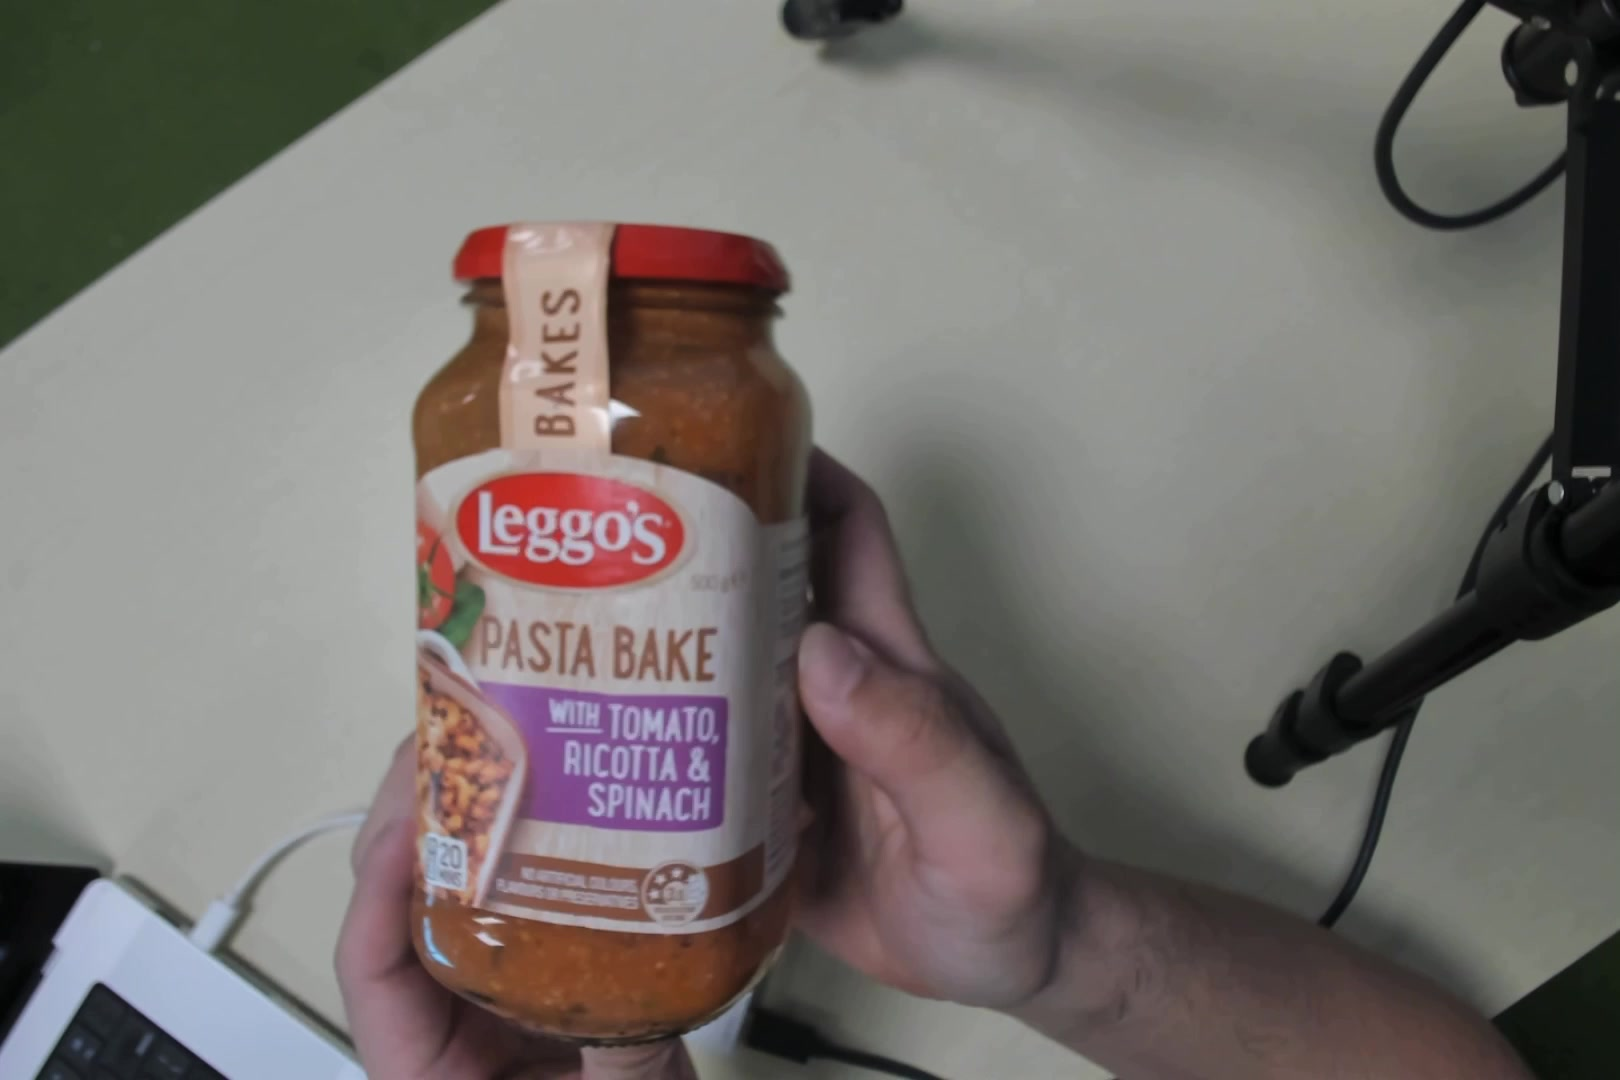Pasta_500-599g_Halal_NonHealthy: (406, 210, 779, 1028)
